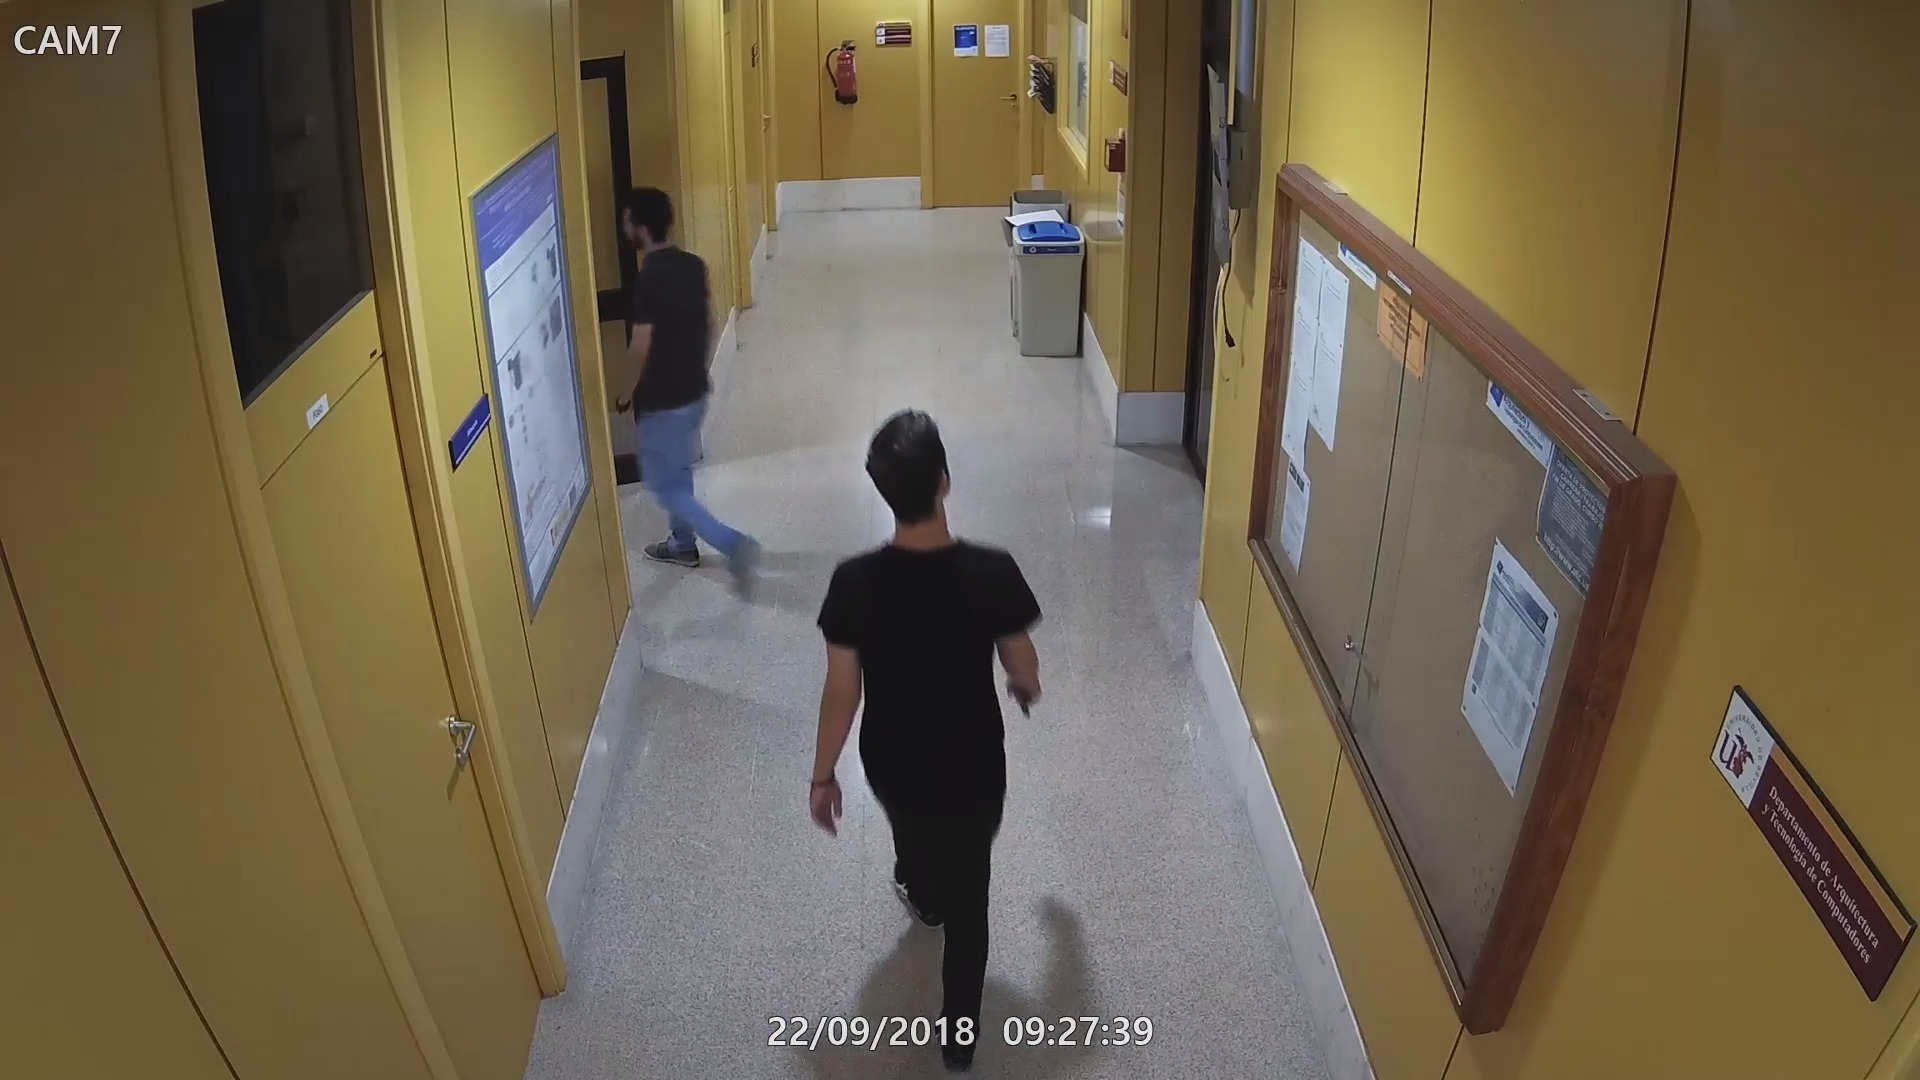Handgun: (1004, 670, 1044, 717)
